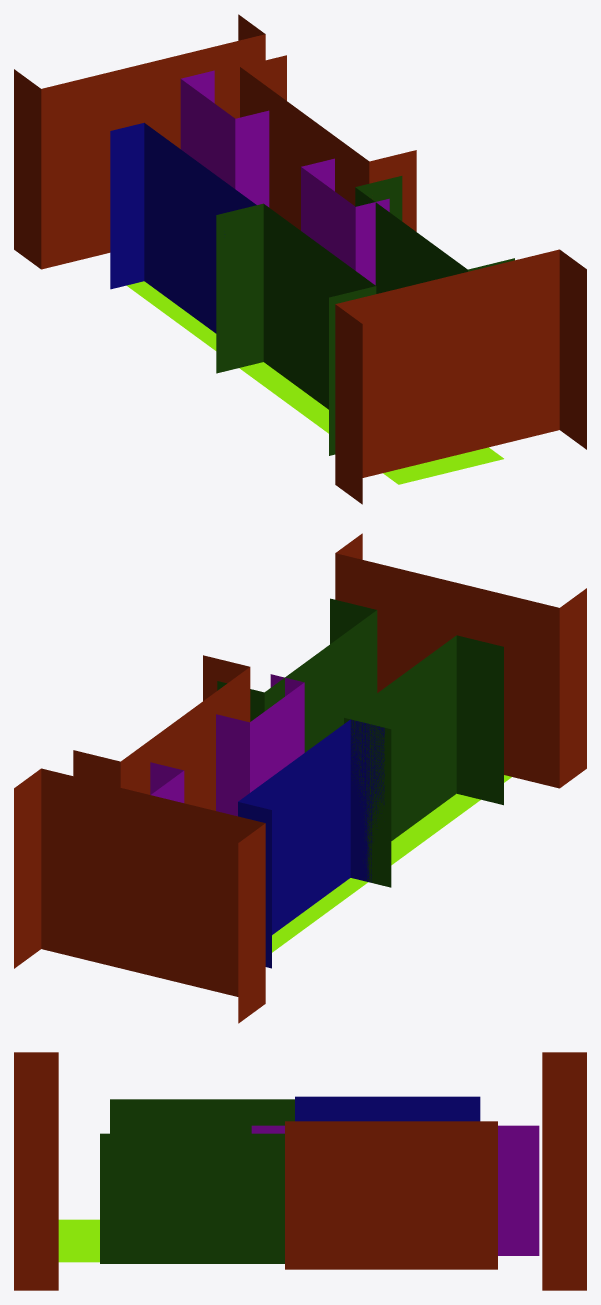
Rendered from Ruelle_v2.FBX.
The picture shows the model from 3 angles, top to bottom: view 1: azimuth 30°, elevation 25°; view 2: azimuth 150°, elevation 25°; view 3: azimuth 270°, elevation 25°; orthographic projection. The views are drawn at different scales.
Parts seen in each view (by area): view 1: Ruelle; view 2: Ruelle; view 3: Ruelle.
Boxes of the visible parts, x1,y1,x2,y2 form: Ruelle: (14,14,586,504); Ruelle: (14,533,586,1023); Ruelle: (14,1052,586,1290).
Bounding box in the file's own units: 1254 × 965 × 3375.
